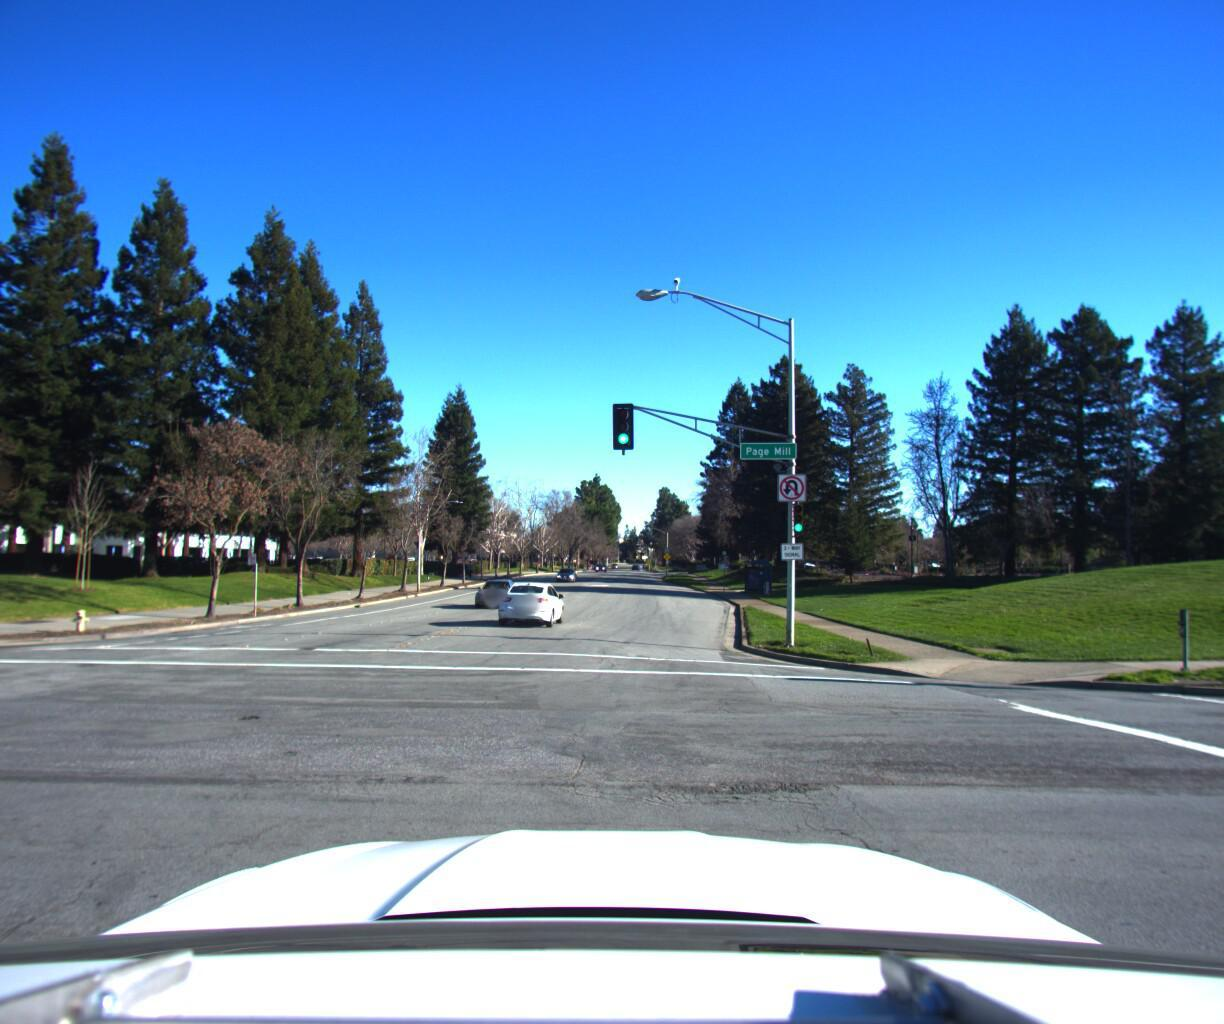car: (496, 570, 570, 622), (473, 569, 523, 602), (557, 561, 580, 576)
